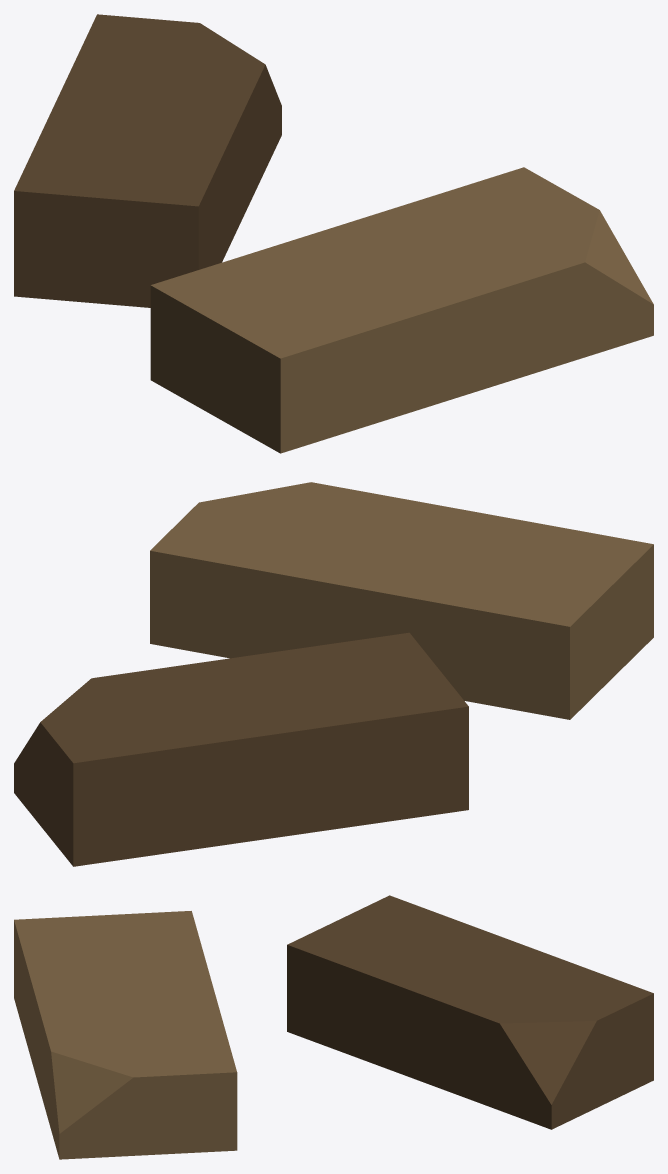
Rendered from BricksStack_3.fbx.
3 renders of one model, top to bottom at view 1: azimuth 30°, elevation 25°; view 2: azimuth 150°, elevation 25°; view 3: azimuth 270°, elevation 25°, orthographic. The views are drawn at different scales.
Visible parts, largest first — view 1: BricksStack_3; view 2: BricksStack_3; view 3: BricksStack_3.
Boxes of the visible parts, x1,y1,x2,y2 form: BricksStack_3: (14, 14, 653, 453); BricksStack_3: (14, 482, 653, 866); BricksStack_3: (14, 895, 653, 1159).
Bounding box in the file's own units: 48.36 × 11.09 × 73.84.
